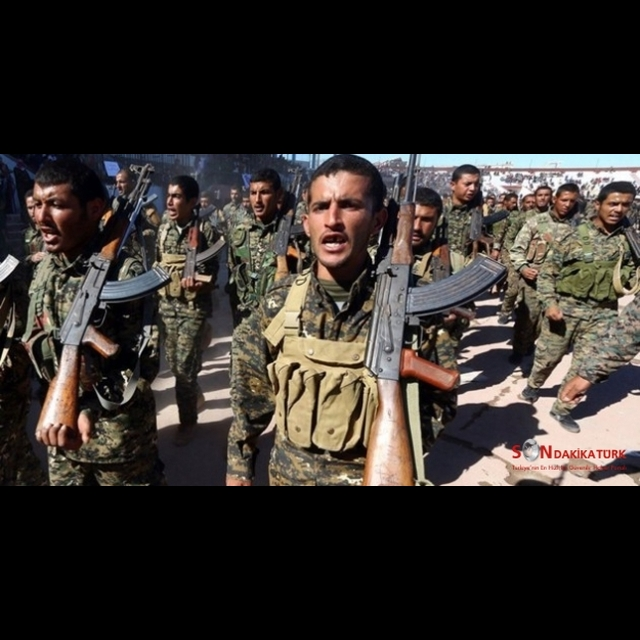AK47: (379, 165, 506, 495)
